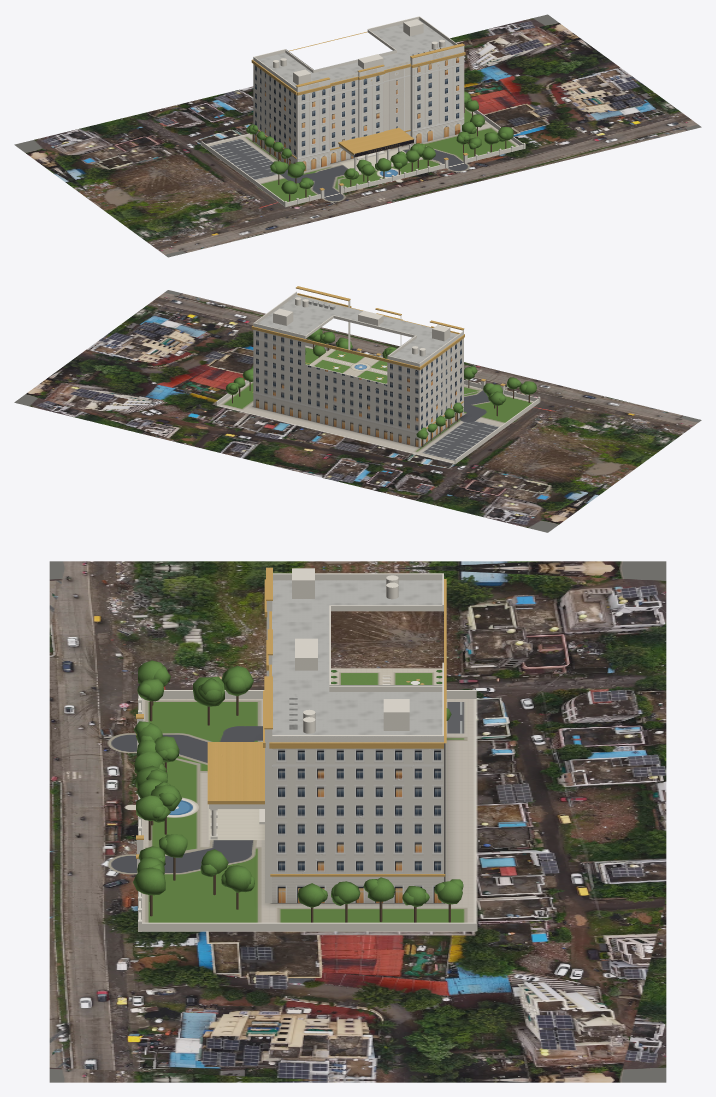
File: celestia-hall.glb
3 views of the same model, one above another, from view 1: azimuth 30°, elevation 25°; view 2: azimuth 150°, elevation 25°; view 3: azimuth 270°, elevation 25° (orthographic). The views are drawn at different scales.
Parts seen in each view (by area): view 1: ground, front, plain, foliage, side, roof, gold; view 2: ground, side, plain, roof, foliage, gold, terrace; view 3: ground, side, roof, plain, foliage, gold, terrace, trunk.
Part boxes in pixels (<box>): ground: <box>14,14,701,257</box>; front: <box>297,46,464,171</box>; plain: <box>201,16,525,207</box>; foliage: <box>246,91,513,194</box>; side: <box>253,49,396,165</box>; roof: <box>258,20,453,154</box>; gold: <box>251,31,468,190</box>; ground: <box>14,290,701,532</box>; side: <box>253,323,462,447</box>; plain: <box>216,291,540,463</box>; roof: <box>258,295,458,362</box>; foliage: <box>225,328,536,439</box>; gold: <box>251,286,505,428</box>; terrace: <box>309,348,387,383</box>; ground: <box>49,561,666,1082</box>; side: <box>272,685,443,903</box>; roof: <box>272,580,442,734</box>; plain: <box>137,568,476,931</box>; foliage: <box>133,660,463,907</box>; gold: <box>136,567,446,876</box>; terrace: <box>331,668,442,684</box>; trunk: <box>148,696,450,922</box>.
Size of what is drawn, in the model's own units: 215 by 34.6 by 108.
Materials: 10 (10 with a texture image).
